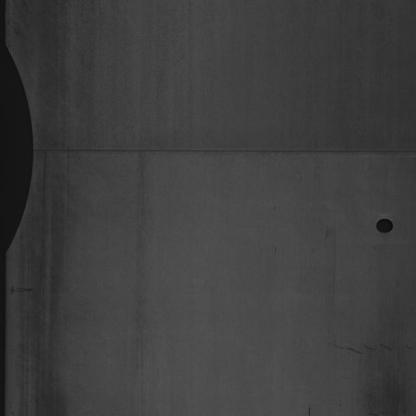crescent_gap: (5, 31, 39, 262)
punching_hole: (375, 210, 397, 238)
welding_line: (32, 131, 416, 165)
